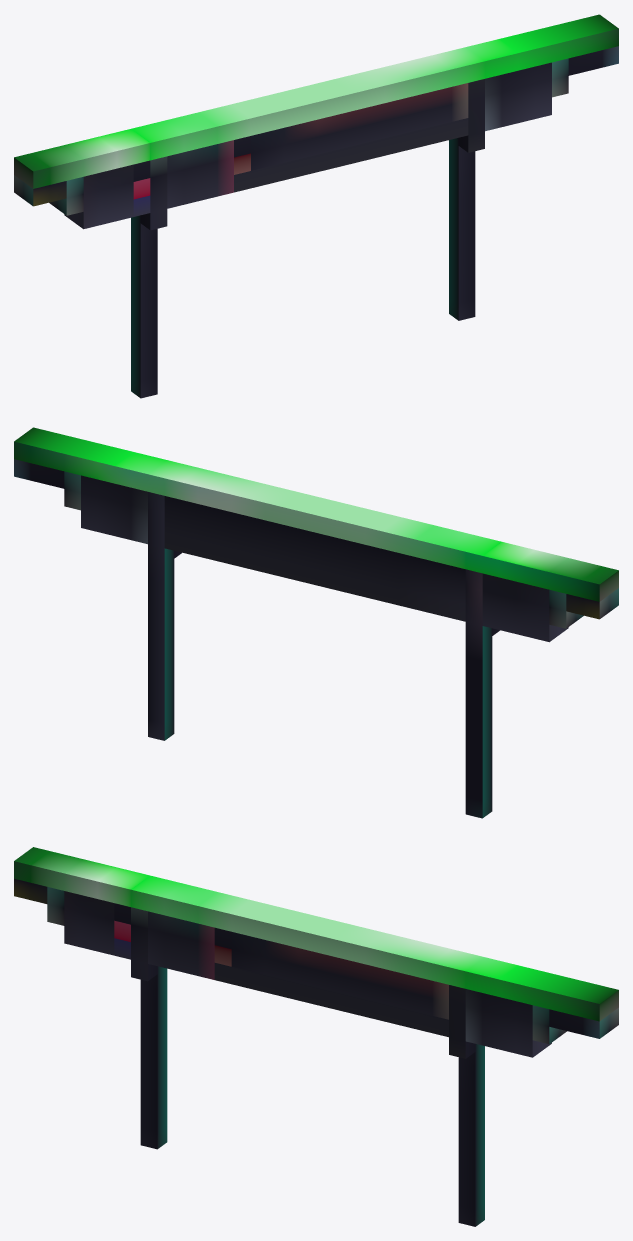
The model's file is Neon_Green_00.fbx.
The picture shows the model from 3 angles, top to bottom: view 1: azimuth 30°, elevation 25°; view 2: azimuth 150°, elevation 25°; view 3: azimuth 330°, elevation 25°; orthographic projection.
Visible parts, largest first — view 1: Neon_Green_00; view 2: Neon_Green_00; view 3: Neon_Green_00.
Part boxes in pixels (x1,y1,x2,y2): Neon_Green_00: [14, 14, 618, 398]; Neon_Green_00: [14, 427, 618, 818]; Neon_Green_00: [14, 847, 618, 1226].
Size of the model in its own units: 175 by 75 by 10.
